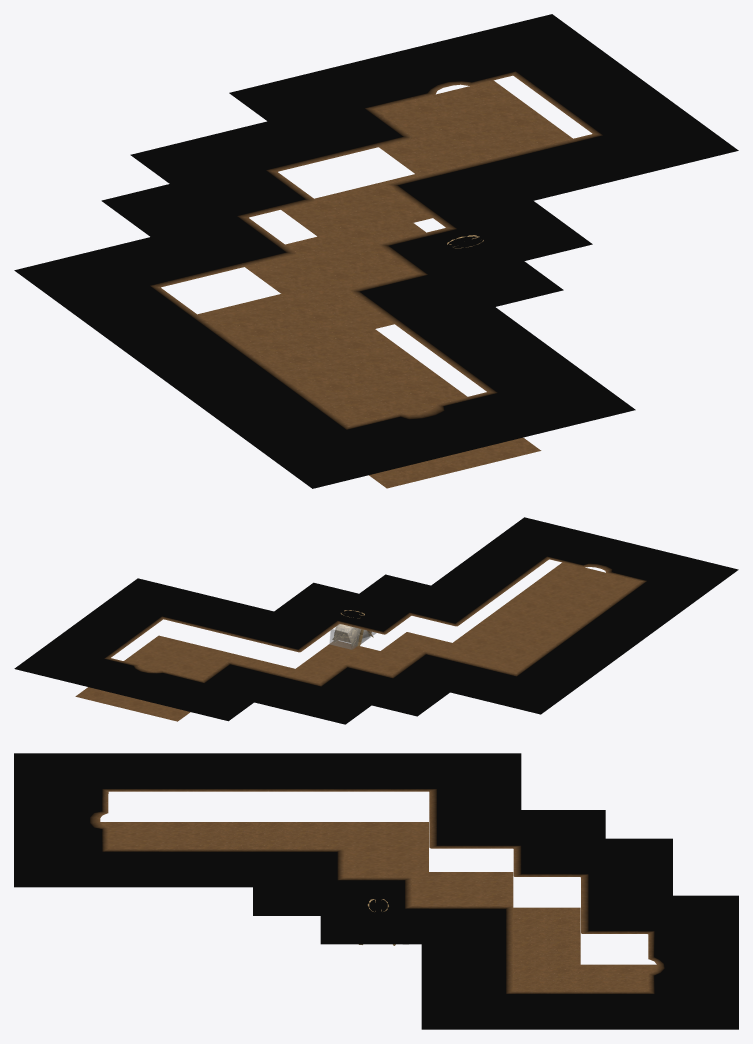
3 renders of one model, top to bottom at view 1: azimuth 30°, elevation 25°; view 2: azimuth 150°, elevation 25°; view 3: azimuth 270°, elevation 25°, orthographic. The views are drawn at different scales.
Parts seen in each view (by area): view 1: lib:dingduanzhilu_floor; view 2: lib:dingduanzhilu_floor, Plane001; view 3: lib:dingduanzhilu_floor.
Part boxes in pixels (x1,y1,x2,y2): lib:dingduanzhilu_floor: (14,14,738,488); lib:dingduanzhilu_floor: (14,517,738,724); Plane001: (329,624,368,649); lib:dingduanzhilu_floor: (14,753,738,1029).
Size of the model in its own units: 38.78 by 2.08 by 43.02.
Materials: 6 (6 with a texture image).
